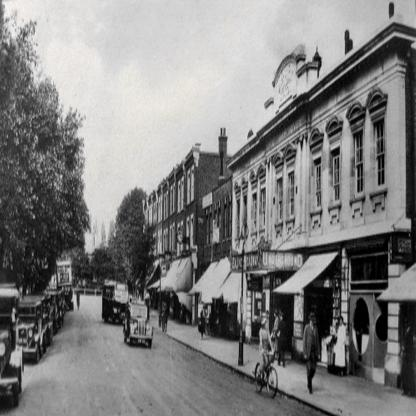Car: (1, 283, 76, 409), (124, 301, 153, 349)
